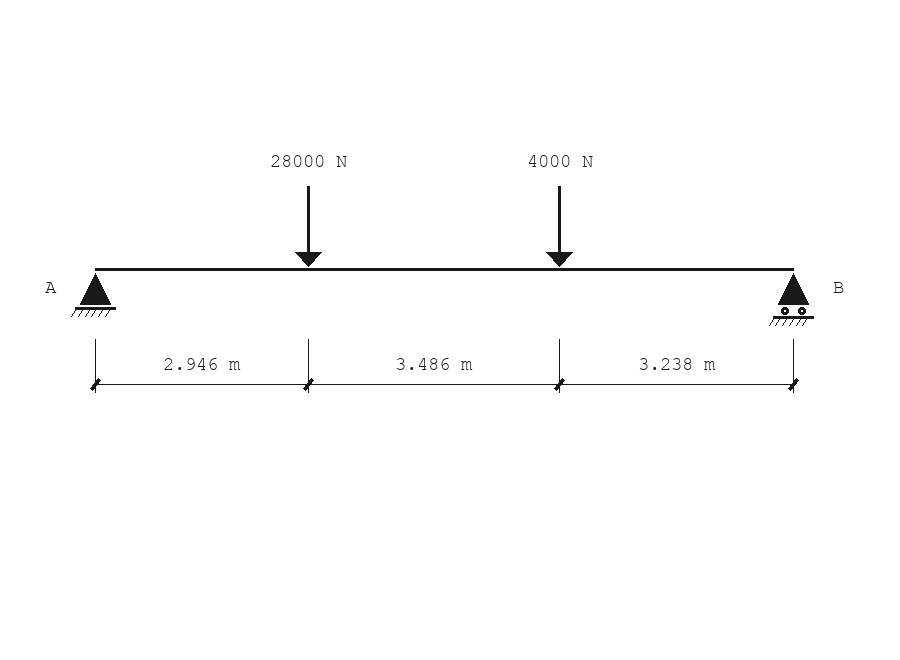pin_support: (71, 273, 116, 317)
point_load: (295, 186, 322, 267), (546, 186, 573, 267)
roller_support: (769, 273, 814, 326)
